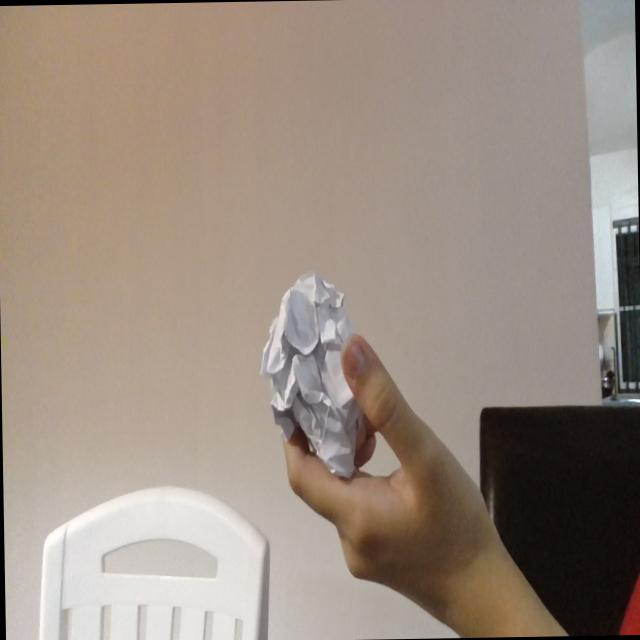crumpled_paper: (259, 267, 377, 496)
